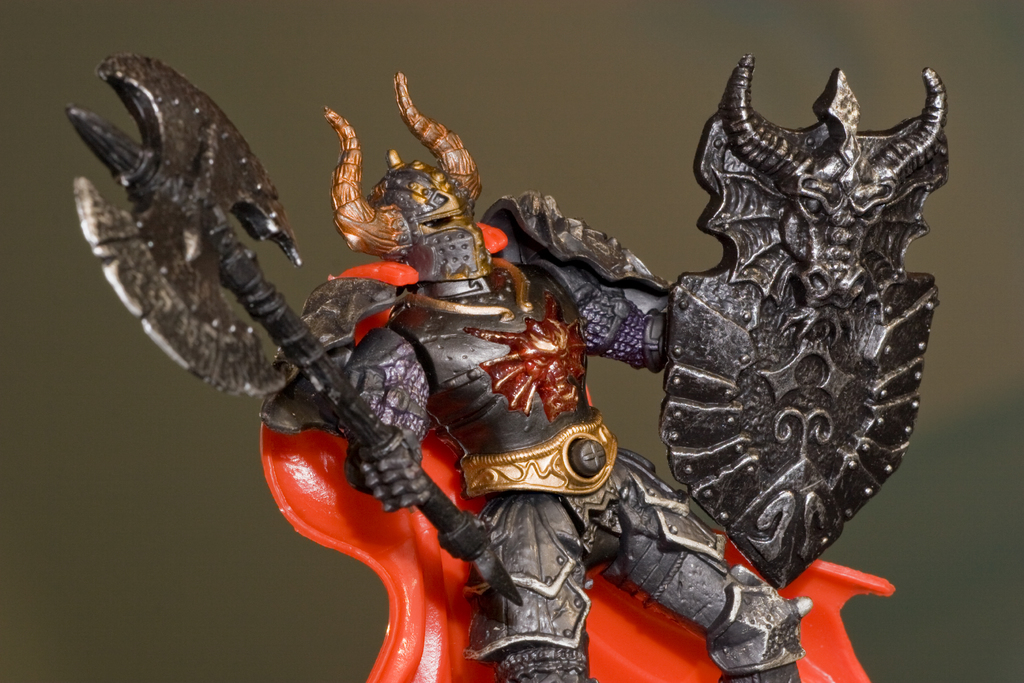Person: (324, 69, 814, 681)
